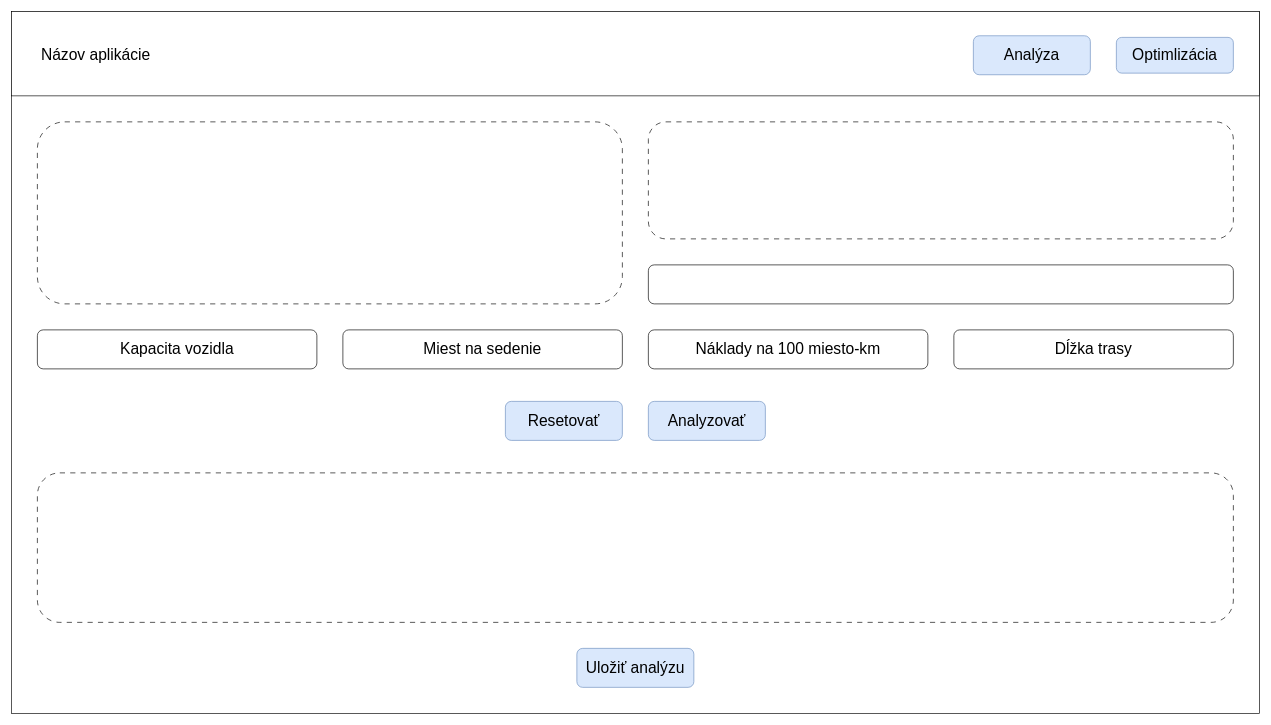
Image size: 1271x725. Some labels were removed from this diagram. The shapes that lost their labels are listed below. From the top down, each one's centre as x and y in pixels, then its label:
point (940, 180): Nahranie súboru s informáciami o časovom rozpise
point (329, 212): Nahranie súboru s informáciami o zastávkach
point (940, 284): Vybrať uložený rozpis
point (635, 547): Výsledky analýzy Jedno číselné výstupy grafy
